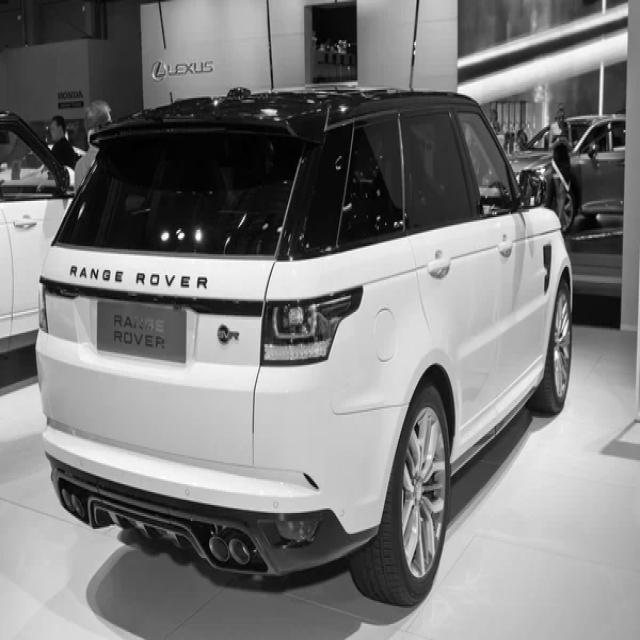Car: (36, 90, 572, 604)
